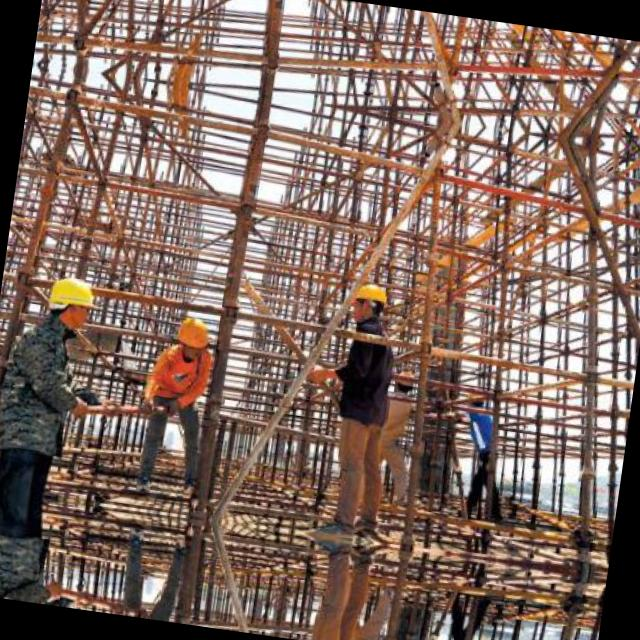helmet: (44, 270, 99, 330), (346, 276, 392, 326), (166, 311, 212, 361), (394, 364, 419, 394)
